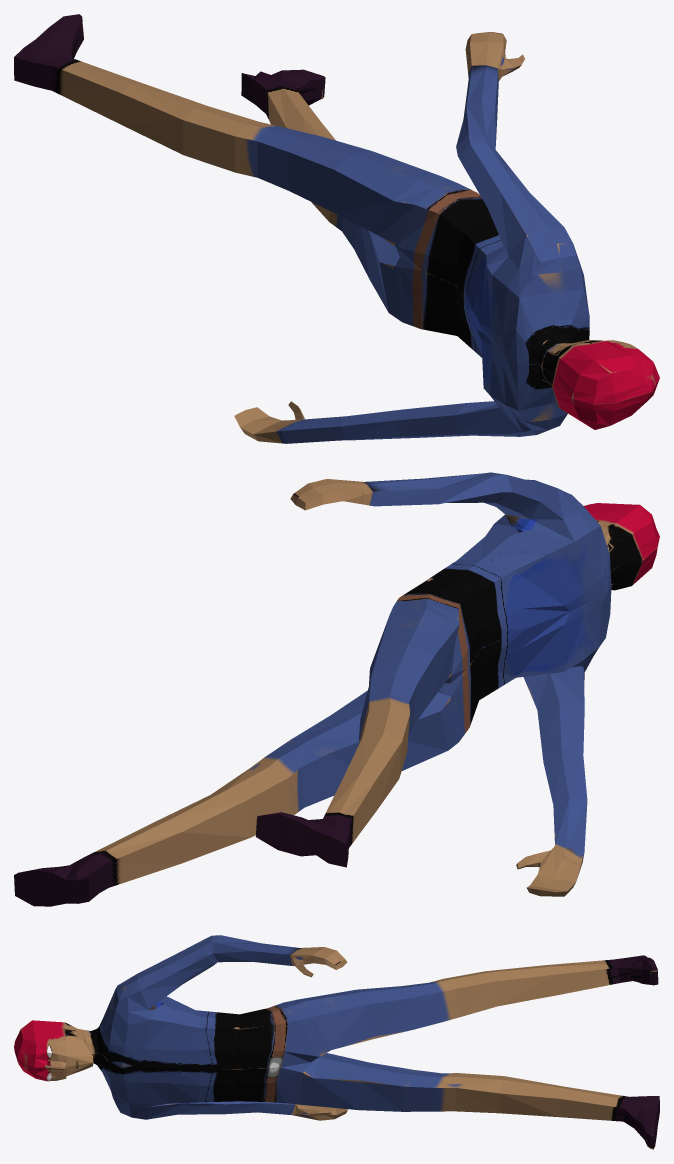
The model's file is mirrorman_000027.obj.
3 renders of one model, top to bottom at view 1: azimuth 30°, elevation 25°; view 2: azimuth 150°, elevation 25°; view 3: azimuth 270°, elevation 25°, orthographic. The views are drawn at different scales.
Parts seen in each view (by area): view 1: mirrorman_Cube.001_Material.001; view 2: mirrorman_Cube.001_Material.001; view 3: mirrorman_Cube.001_Material.001.
Part boxes in pixels (bbox=[...]): mirrorman_Cube.001_Material.001: bbox=[14, 14, 659, 443]; mirrorman_Cube.001_Material.001: bbox=[14, 472, 659, 906]; mirrorman_Cube.001_Material.001: bbox=[14, 935, 659, 1149].
Bounding box in the file's own units: 0.7516 × 0.7739 × 1.88.
Materials: 1 (1 with a texture image).
